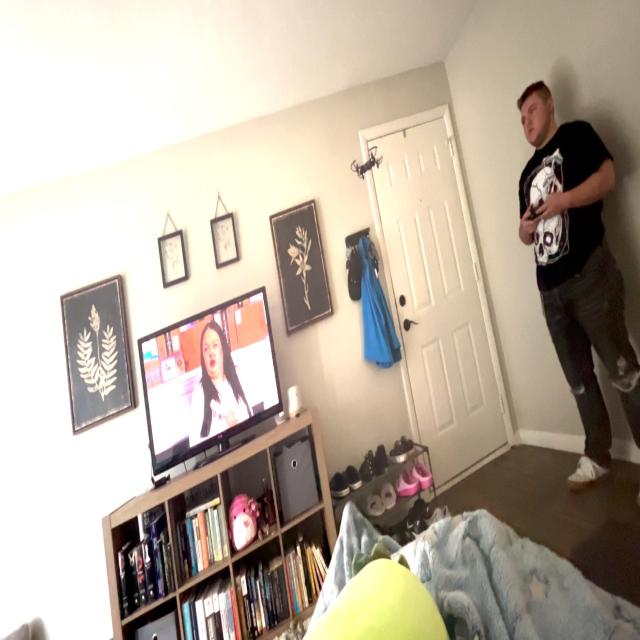drone: (341, 130, 393, 190)
